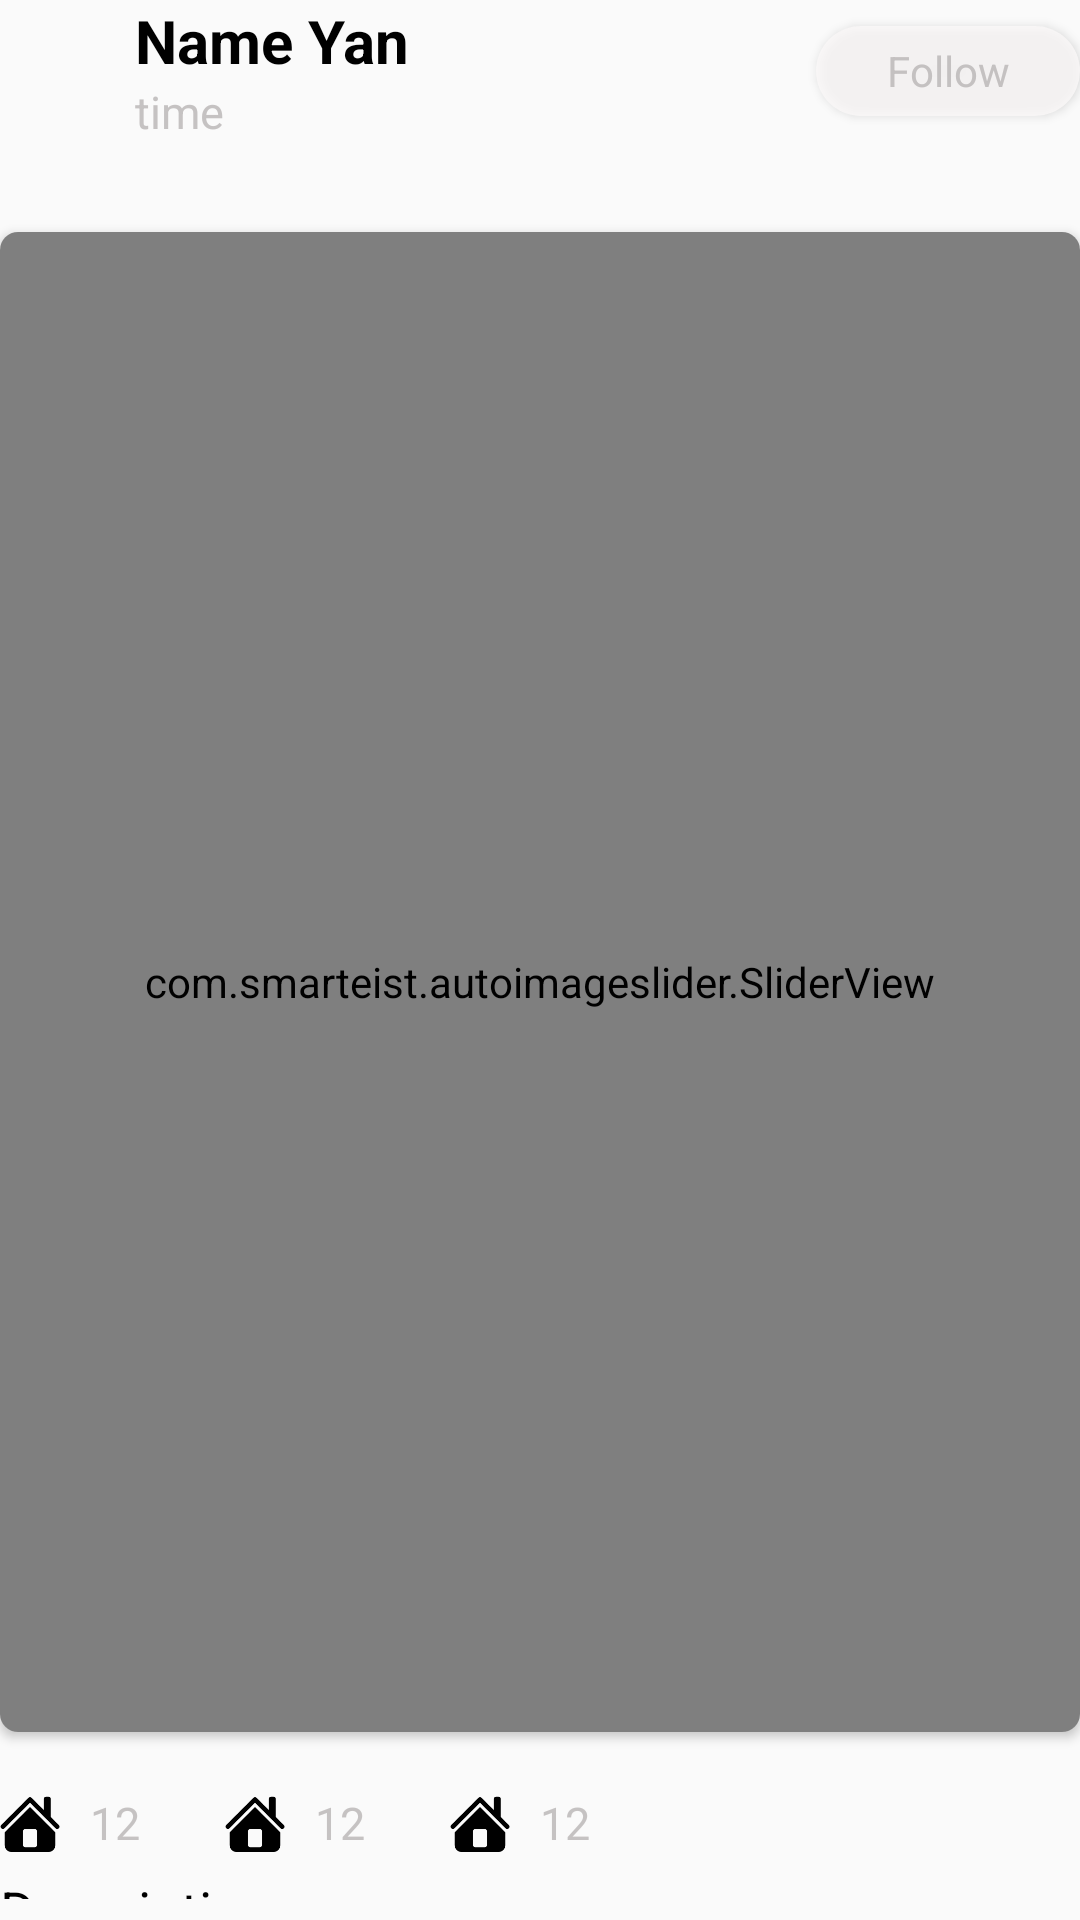

Icons on this 1080 × 1920 Android screen, each with the point to tap as point (x, y):
home: point (30, 1824), point (255, 1824), point (480, 1824)
